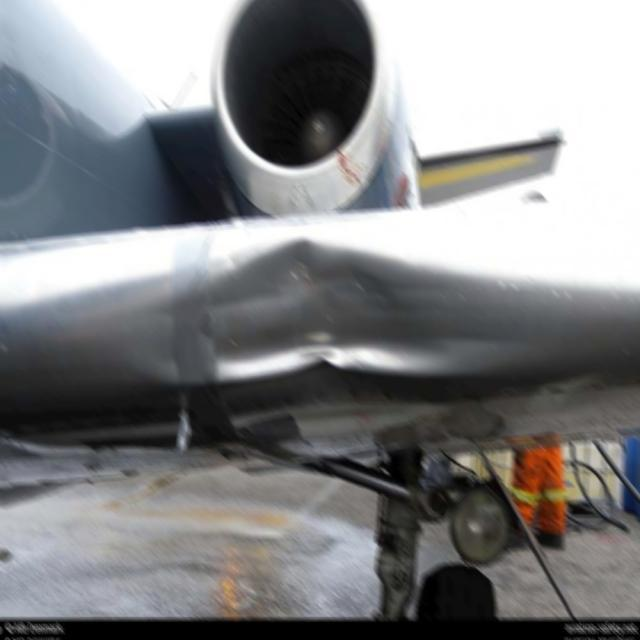dent: (154, 234, 463, 386)
